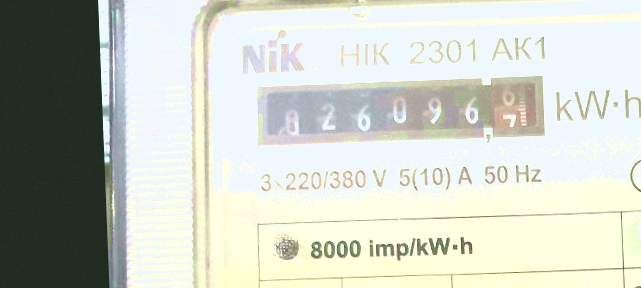0: (388, 92, 409, 128), (280, 105, 302, 137)
2: (316, 99, 339, 135)
6: (353, 100, 374, 135), (461, 93, 480, 126), (498, 81, 518, 109)
7: (500, 110, 519, 132)
9: (424, 94, 444, 127)
screen: (245, 66, 553, 159)
